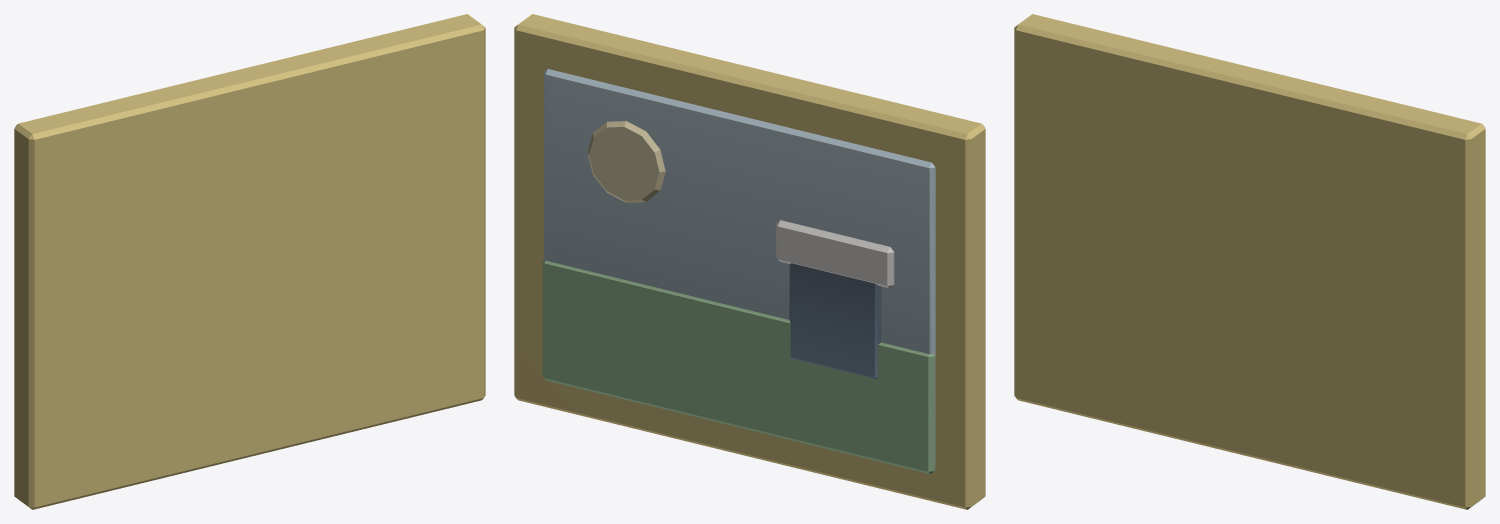
File: furn_picture_frame__gold.glb
3 renders of one model, left to right at view 1: azimuth 30°, elevation 25°; view 2: azimuth 150°, elevation 25°; view 3: azimuth 330°, elevation 25°, orthographic.
Size of the model in its own units: 0.7 by 0.55 by 0.066.
